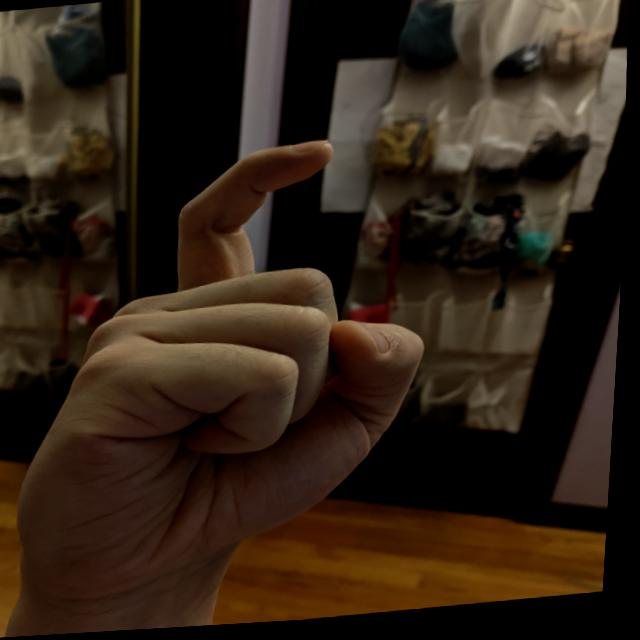X: (0, 125, 459, 585)
